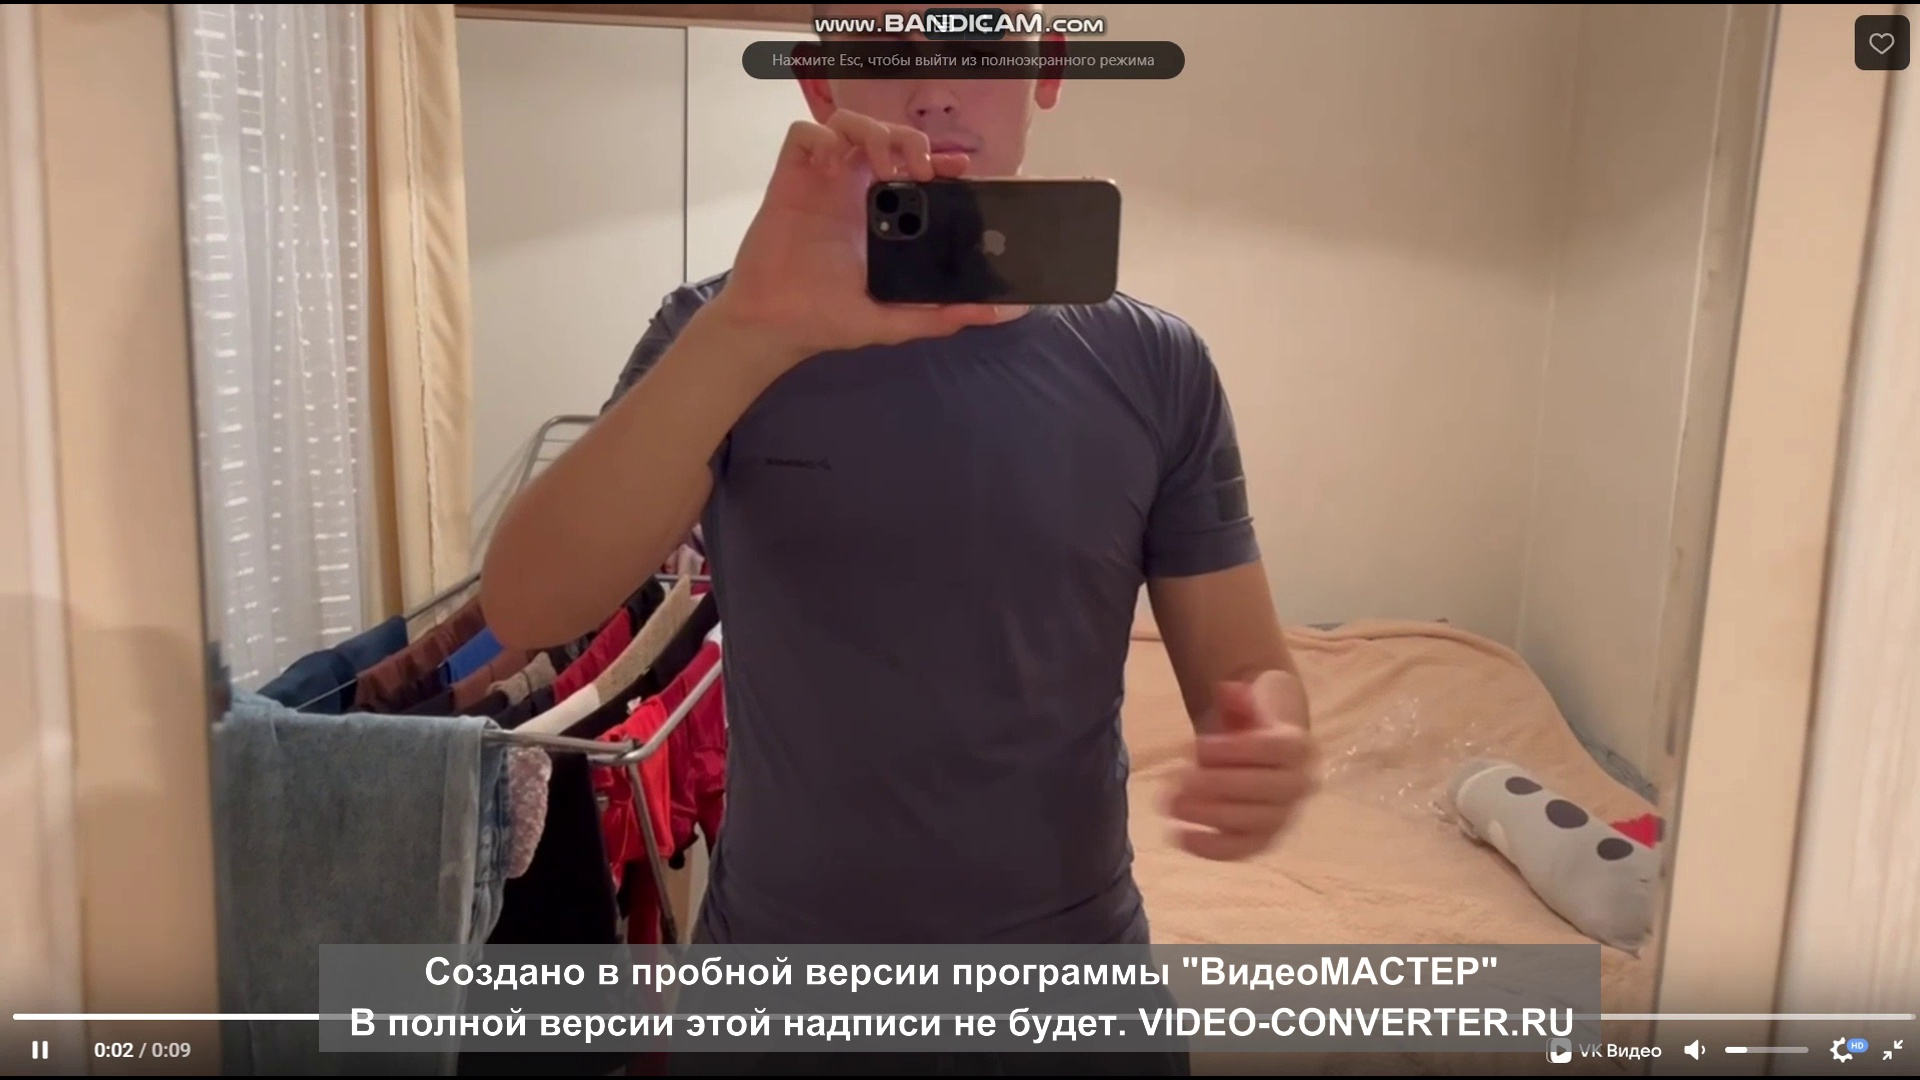Кисть: (1160, 688, 1323, 857)
